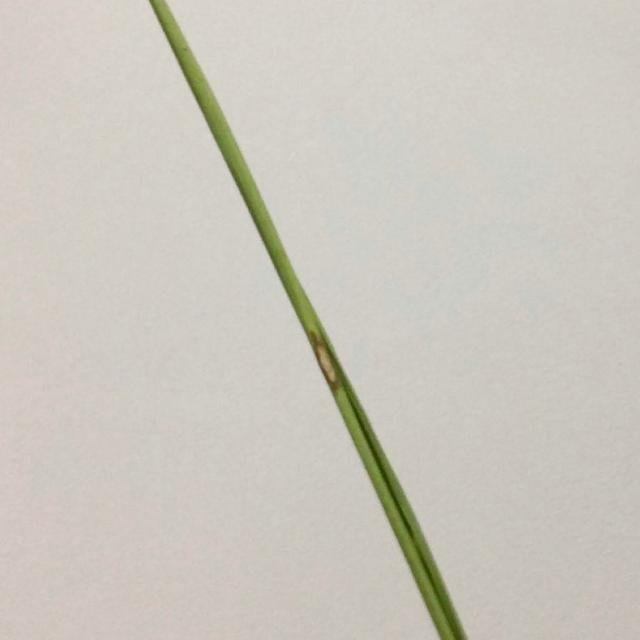Blast: (312, 332, 346, 392)
